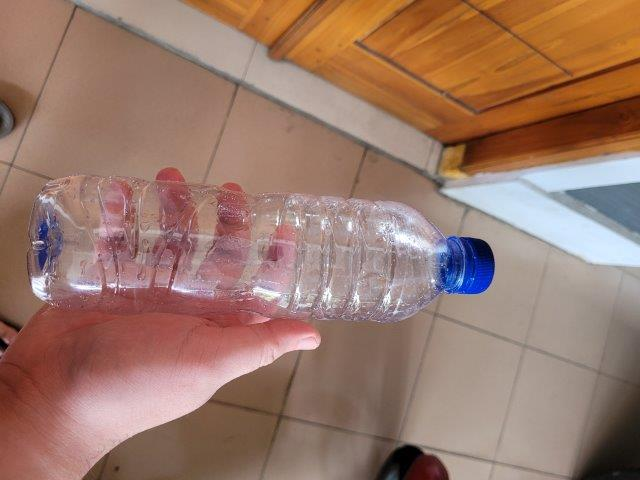botolplastik: (27, 172, 497, 320)
